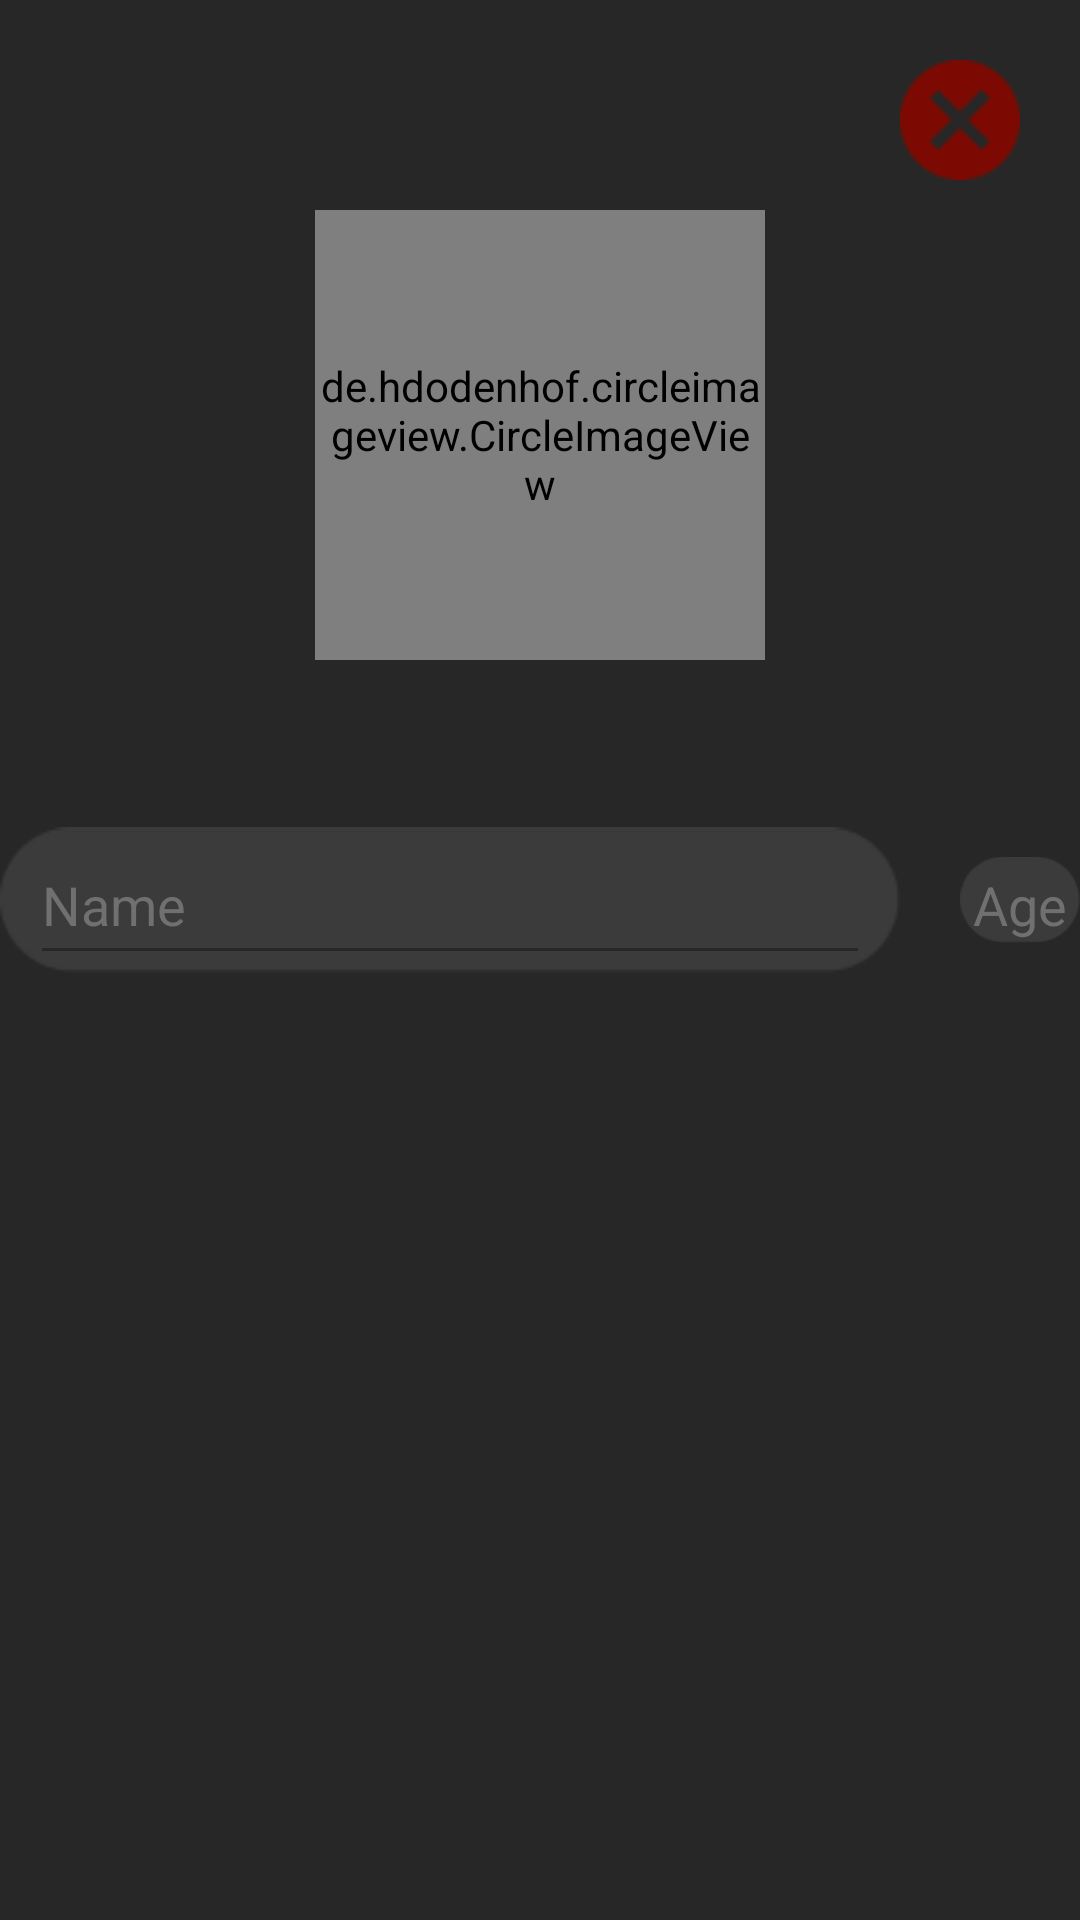

Locate icon controls on the screen. Image size 1080x1920, boxes as (x1=x1, y1=y1, x2=x2, y2=y2).
deletebutton: (x1=900, y1=60, x2=1020, y2=180)
